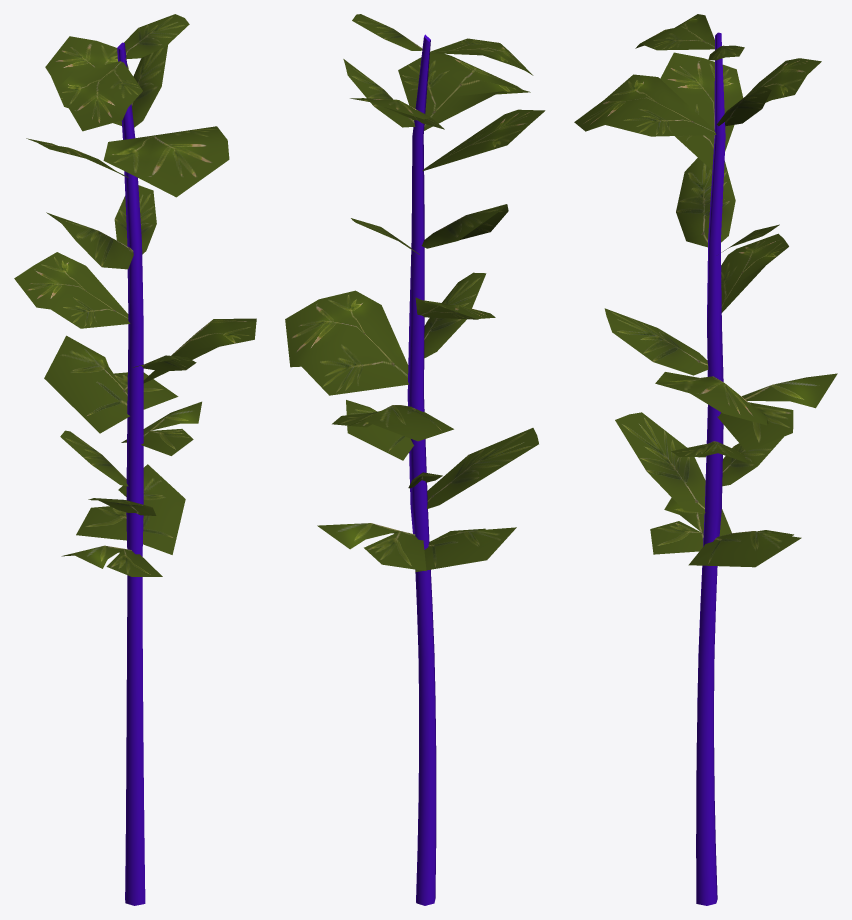
Rendered from Bamboo_B.FBX.
3 renders of one model, left to right at view 1: azimuth 30°, elevation 25°; view 2: azimuth 150°, elevation 25°; view 3: azimuth 270°, elevation 25°, orthographic.
Parts seen in each view (by area): view 1: Geometry_Bamboo_D_LOD00; view 2: Geometry_Bamboo_D_LOD00; view 3: Geometry_Bamboo_D_LOD00.
Boxes of the visible parts, left/top/right/bottom form: Geometry_Bamboo_D_LOD00: left=14, top=14, right=256, bottom=905; Geometry_Bamboo_D_LOD00: left=285, top=14, right=545, bottom=905; Geometry_Bamboo_D_LOD00: left=574, top=14, right=837, bottom=905.
Size of what is drawn, in the model's own units: 118 by 419 by 115.
